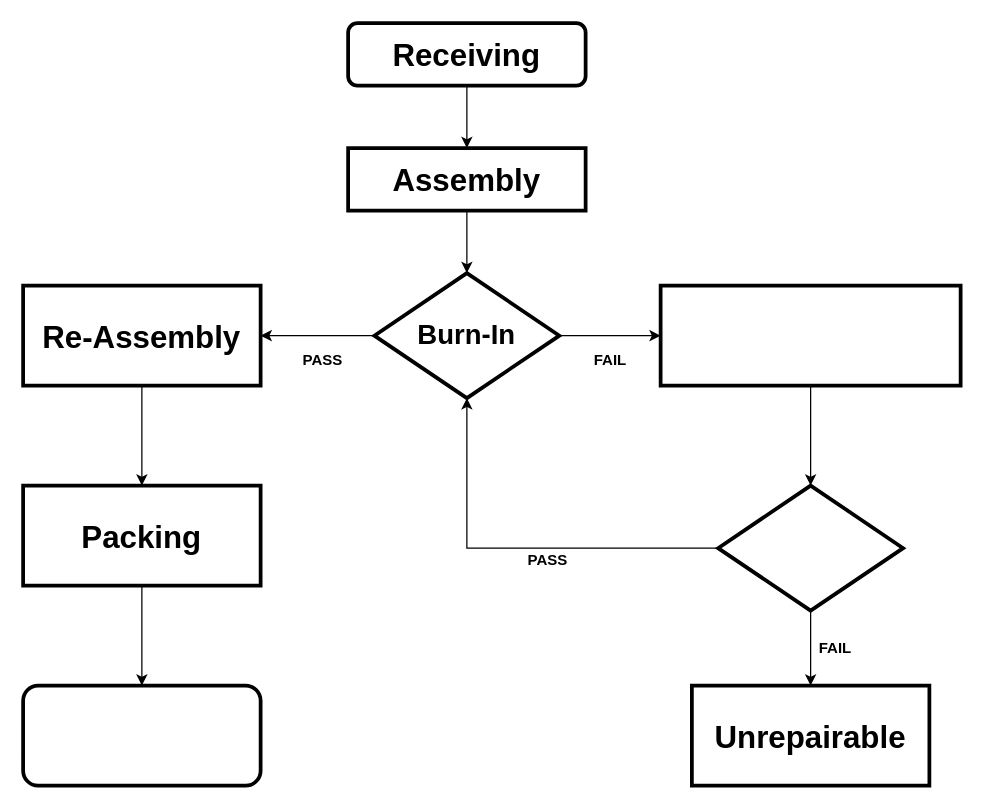
Image size: 984x809. Some labels were removed from this diagram. The shapes that lost their labels are listed below. From the top down, each one's centre as x and y in pixels, then its label:
At (810,335): "Troubleshooting".
At (810,547): "Repair".
At (141,735): "Shipping".
